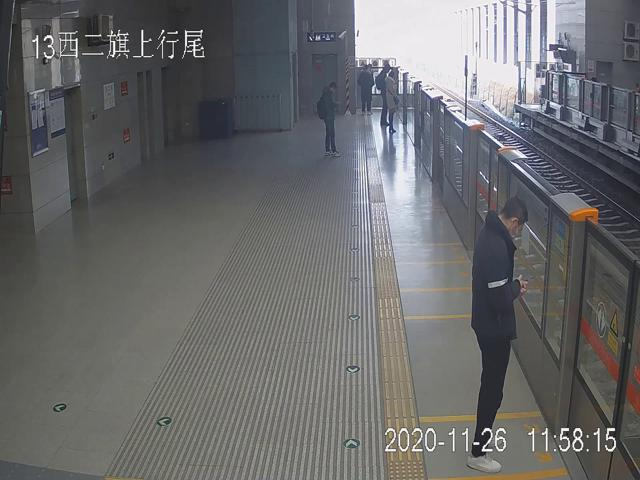person: (466, 191, 527, 471), (318, 81, 343, 158), (357, 64, 374, 115), (385, 68, 397, 132)
